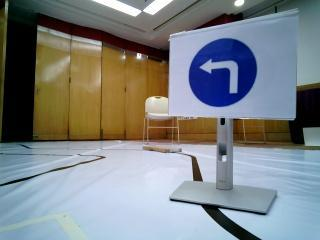left: (178, 30, 289, 109)
